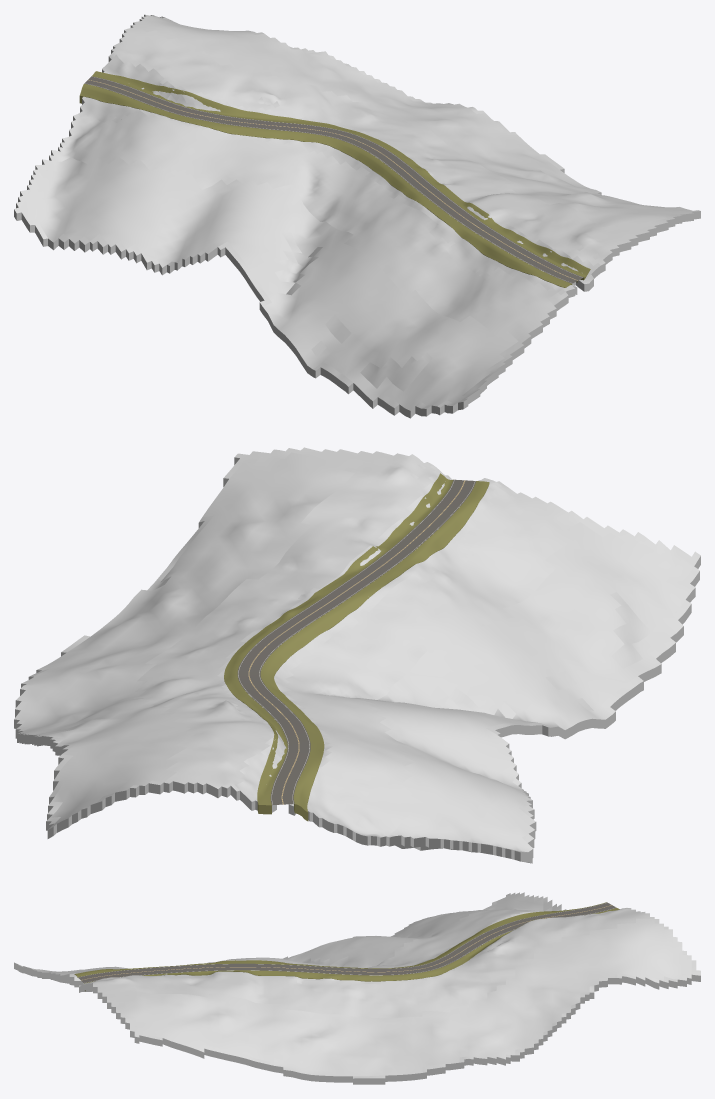
File: conz_161.glb
The picture shows the model from 3 angles, top to bottom: view 1: azimuth 30°, elevation 25°; view 2: azimuth 150°, elevation 25°; view 3: azimuth 270°, elevation 25°; orthographic projection. The views are drawn at different scales.
Visible parts, largest first — view 1: terrain161, road161, verge161L, verge161R; view 2: terrain161, road161, verge161L, verge161R, paint_white161; view 3: terrain161, road161, verge161R, verge161L, paint_yellow161, paint_white161.
Part boxes in pixels (x1,y1,x2,y2): terrain161: (14,14,700,418); road161: (84,76,583,283); verge161L: (79,84,572,287); verge161R: (92,71,590,282); terrain161: (14,447,700,863); road161: (237,479,476,805); verge161L: (260,481,489,821); verge161R: (224,473,453,814); paint_white161: (238,480,475,804); terrain161: (14,892,700,1084); road161: (78,902,616,983); verge161R: (84,908,619,991); verge161L: (74,902,606,977); paint_yellow161: (81,905,611,980); paint_white161: (78,903,615,982).
Size of the model in its own units: 190 by 50.83 by 296.
